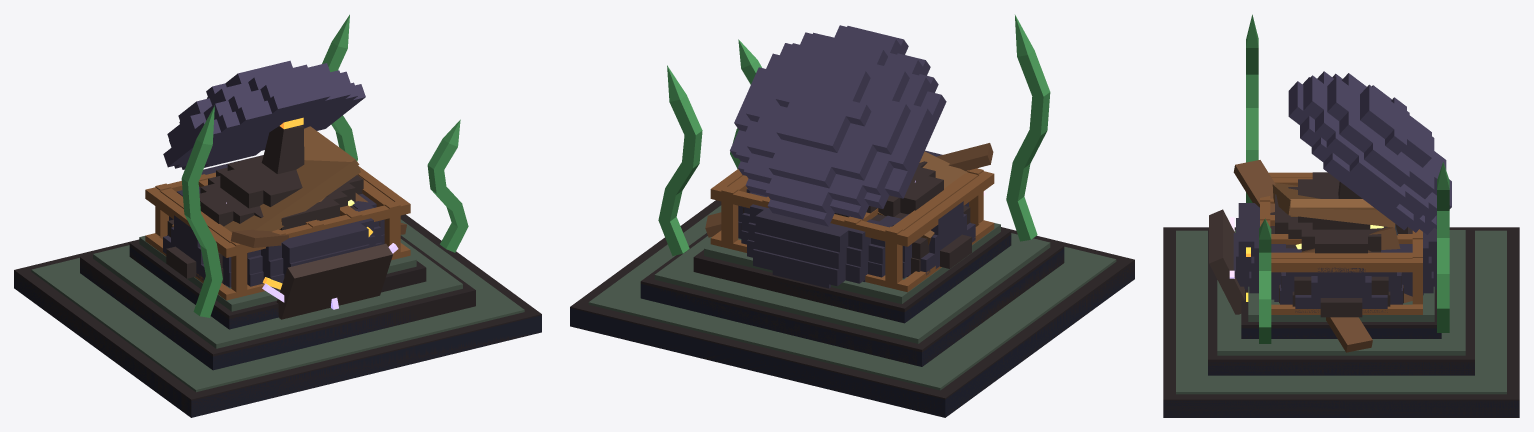
File: caches_bundle_1.glb
3 renders of one model, left to right at view 1: azimuth 30°, elevation 25°; view 2: azimuth 150°, elevation 25°; view 3: azimuth 270°, elevation 25°, orthographic. The views are drawn at different scales.
Parts seen in each view (by area): view 1: CACHE_TRENCH_Main, CACHE_KELP_Main, CACHE_ABYSS_Main, CACHE_ABYSS_Lid, CACHE_TRENCH_Accent, CACHE_KELP_Trim, CACHE_KELP_Accent, CACHE_ABYSS_Accent, CACHE_TRENCH_Lid, CACHE_WRECKS_Lid, CACHE_KELP_Lid, CACHE_WRECKS_Accent; view 2: CACHE_ABYSS_Lid, CACHE_KELP_Main, CACHE_TRENCH_Main, CACHE_ABYSS_Main, CACHE_ABYSS_Accent, CACHE_KELP_Trim, CACHE_KELP_Accent, CACHE_TRENCH_Accent, CACHE_WRECKS_Accent, CACHE_WRECKS_Lid; view 3: CACHE_KELP_Main, CACHE_TRENCH_Main, CACHE_ABYSS_Lid, CACHE_ABYSS_Main, CACHE_ABYSS_Accent, CACHE_TRENCH_Accent, CACHE_KELP_Accent, CACHE_KELP_Trim, CACHE_WRECKS_Accent, CACHE_TRENCH_Lid, CACHE_WRECKS_Lid, CACHE_KELP_Lid.
Boxes of the visible parts, box(x1,y1,x2,y2) form: CACHE_TRENCH_Main: box(14, 214, 541, 417); CACHE_KELP_Main: box(31, 219, 524, 392); CACHE_ABYSS_Main: box(14, 247, 541, 417); CACHE_ABYSS_Lid: box(163, 60, 365, 169); CACHE_TRENCH_Accent: box(166, 125, 380, 283); CACHE_KELP_Trim: box(181, 14, 468, 317); CACHE_KELP_Accent: box(145, 166, 410, 300); CACHE_ABYSS_Accent: box(163, 155, 384, 290); CACHE_TRENCH_Lid: box(276, 243, 392, 319); CACHE_WRECKS_Lid: box(172, 159, 360, 232); CACHE_KELP_Lid: box(304, 126, 359, 202); CACHE_WRECKS_Accent: box(230, 193, 406, 247); CACHE_ABYSS_Lid: box(730, 25, 946, 226); CACHE_KELP_Main: box(588, 205, 1116, 390); CACHE_TRENCH_Main: box(570, 200, 1134, 417); CACHE_ABYSS_Main: box(570, 234, 1134, 417); CACHE_ABYSS_Accent: box(738, 150, 975, 288); CACHE_KELP_Trim: box(658, 15, 1050, 256); CACHE_KELP_Accent: box(710, 168, 994, 292); CACHE_TRENCH_Accent: box(741, 161, 971, 273); CACHE_WRECKS_Accent: box(705, 143, 993, 237); CACHE_WRECKS_Lid: box(877, 151, 967, 245); CACHE_KELP_Main: box(1176, 230, 1506, 394); CACHE_TRENCH_Main: box(1163, 227, 1519, 417); CACHE_ABYSS_Lid: box(1288, 71, 1451, 234); CACHE_ABYSS_Main: box(1163, 328, 1519, 417); CACHE_ABYSS_Accent: box(1233, 203, 1436, 312); CACHE_TRENCH_Accent: box(1270, 172, 1412, 317); CACHE_KELP_Accent: box(1260, 172, 1422, 314); CACHE_KELP_Trim: box(1246, 14, 1449, 343); CACHE_WRECKS_Accent: box(1233, 160, 1412, 352); CACHE_TRENCH_Lid: box(1209, 209, 1244, 314); CACHE_WRECKS_Lid: box(1272, 183, 1395, 227); CACHE_KELP_Lid: box(1290, 199, 1377, 216).
Size of the model in its own units: 3.2 by 2.31 by 2.8.
